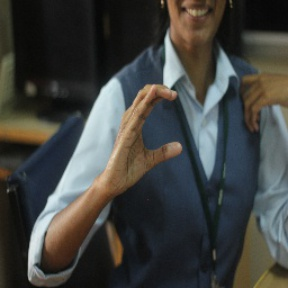C: (105, 80, 192, 175)
